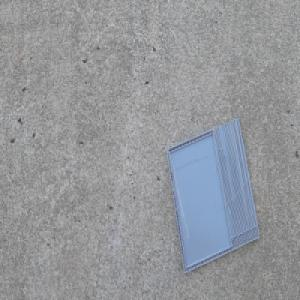PlasticPart: (165, 115, 261, 274)
